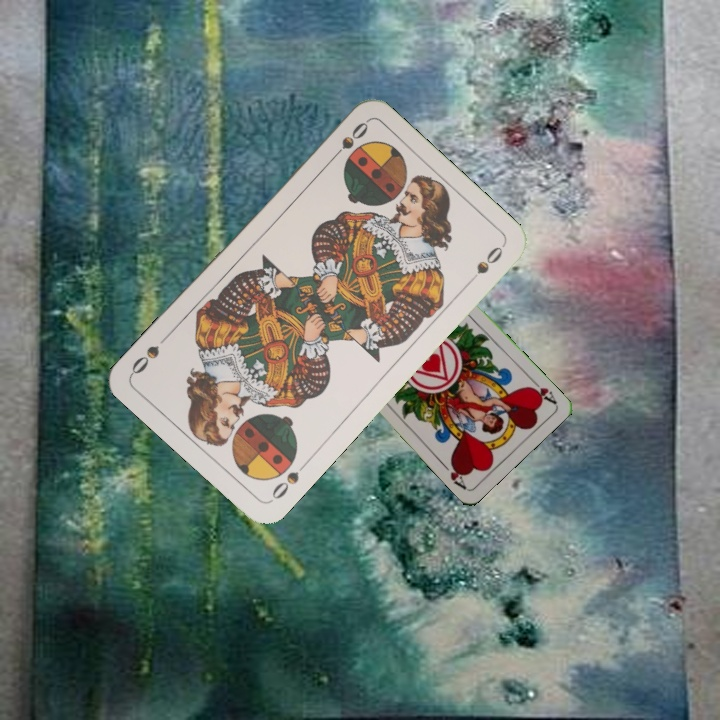HA: (524, 374, 559, 407)
SO: (325, 117, 371, 165), (267, 457, 311, 504)
